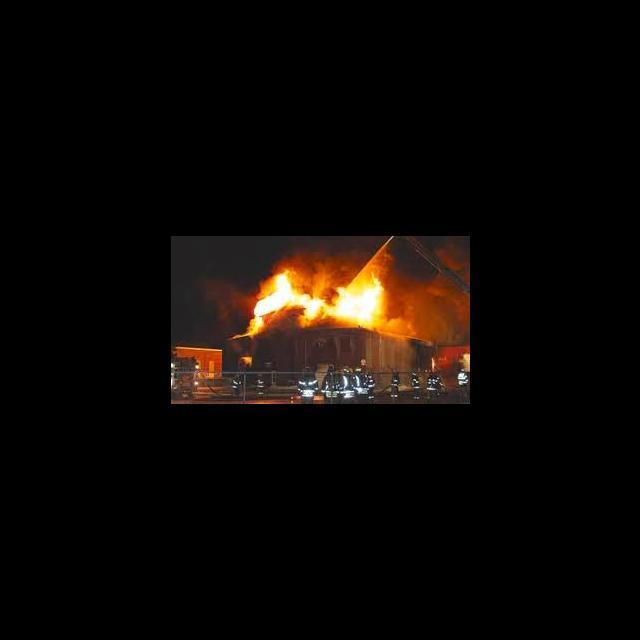Fire: (252, 266, 324, 322), (328, 273, 391, 328)
Smoke: (398, 294, 455, 335), (278, 248, 362, 266)
